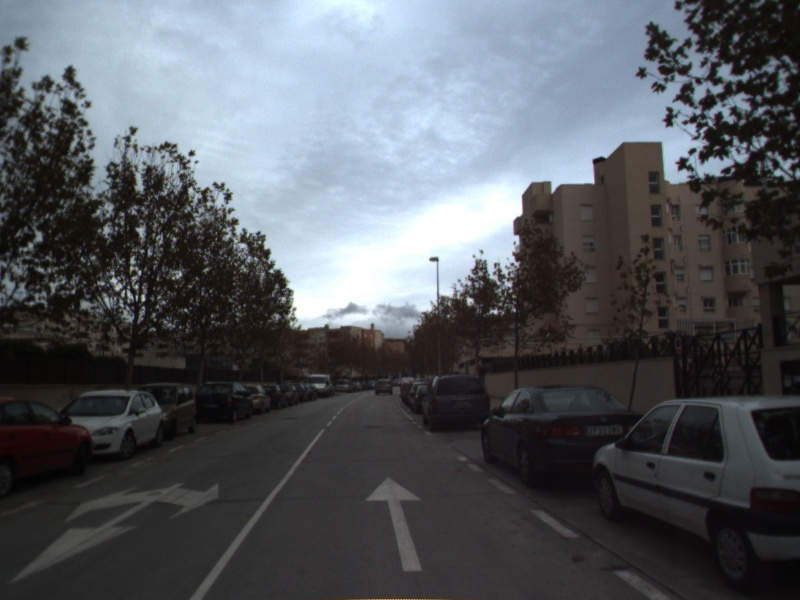STRAIGHT: (362, 473, 426, 575)
